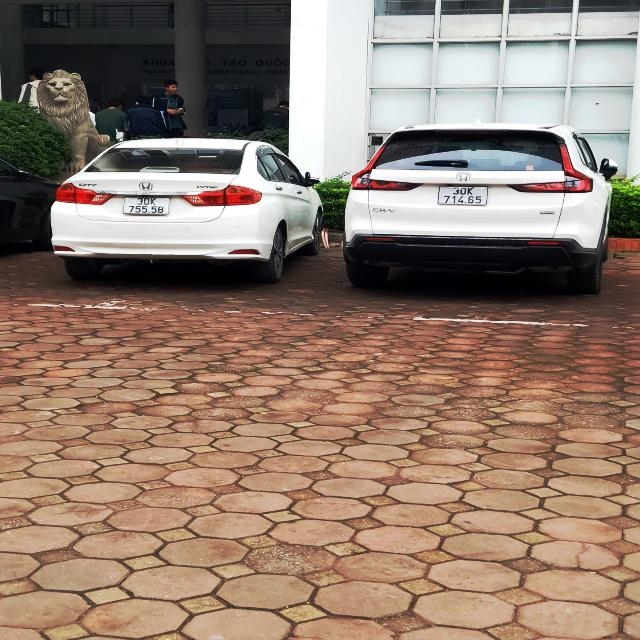license_plate: (438, 187, 489, 206), (123, 197, 171, 216)
